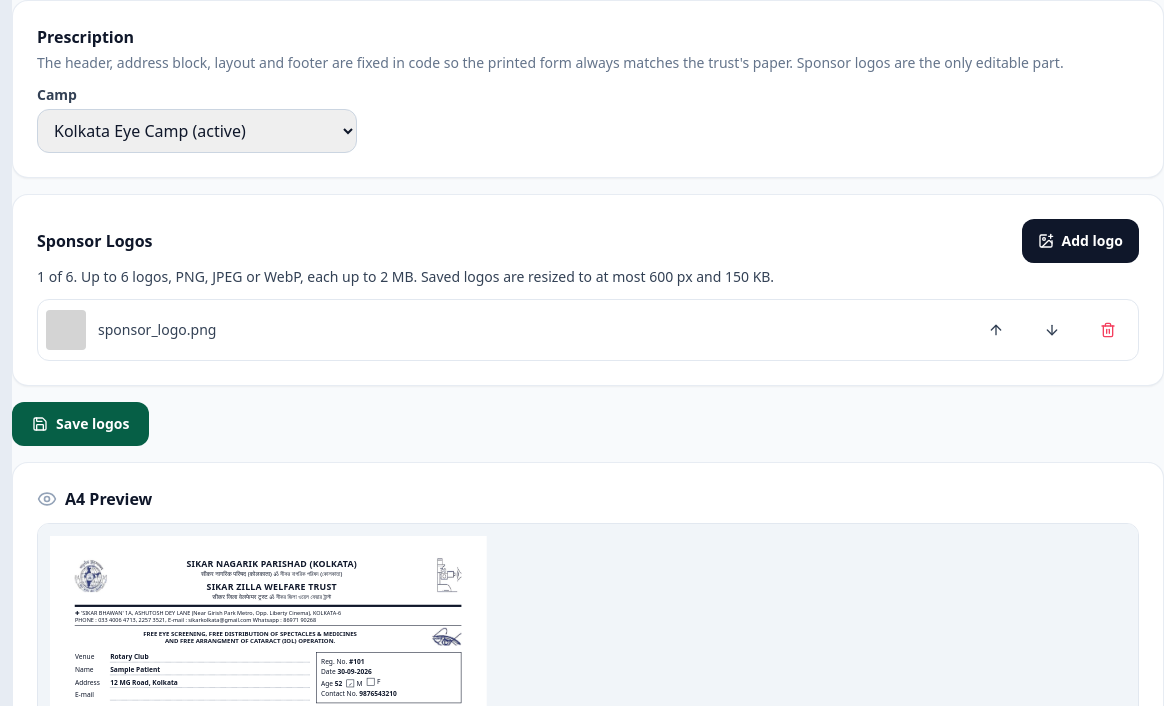
TemplateEditor › saving logos writes the live record with no publish step
Step 1. Click the button with test id "tpl-save-logos-button" → point(81, 424), box [12,402,150,446]
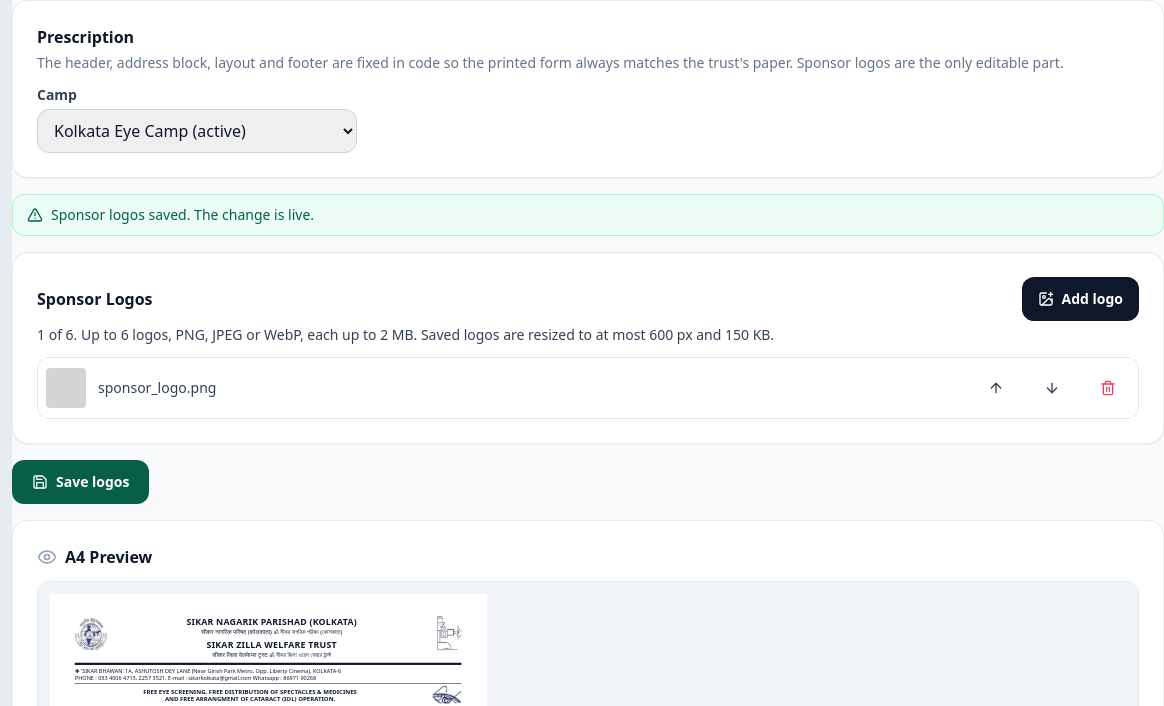
Expected: the text "live" is shown, [51,205,314,224]
